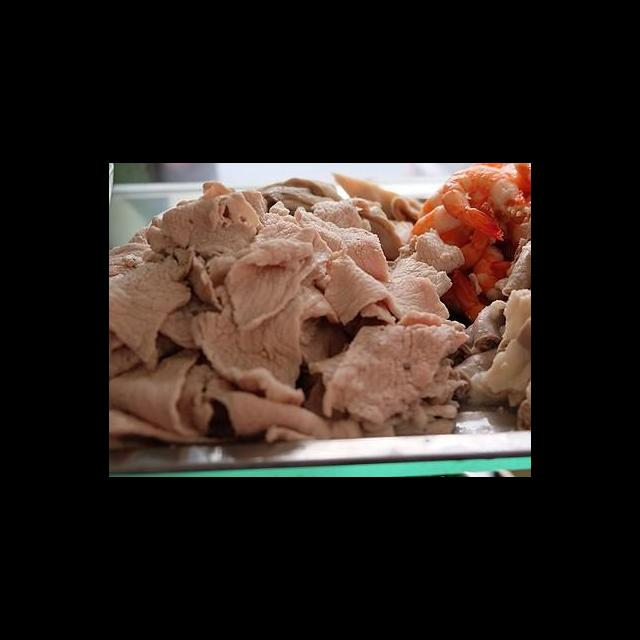thit heo: (319, 322, 472, 429), (187, 287, 310, 409), (322, 248, 453, 330), (110, 253, 196, 367), (202, 376, 336, 447), (221, 238, 318, 335), (143, 188, 265, 265), (110, 341, 204, 439), (288, 203, 392, 286), (387, 226, 466, 284), (385, 254, 455, 314)
tom: (439, 164, 531, 241), (404, 200, 503, 271), (473, 242, 519, 303)
